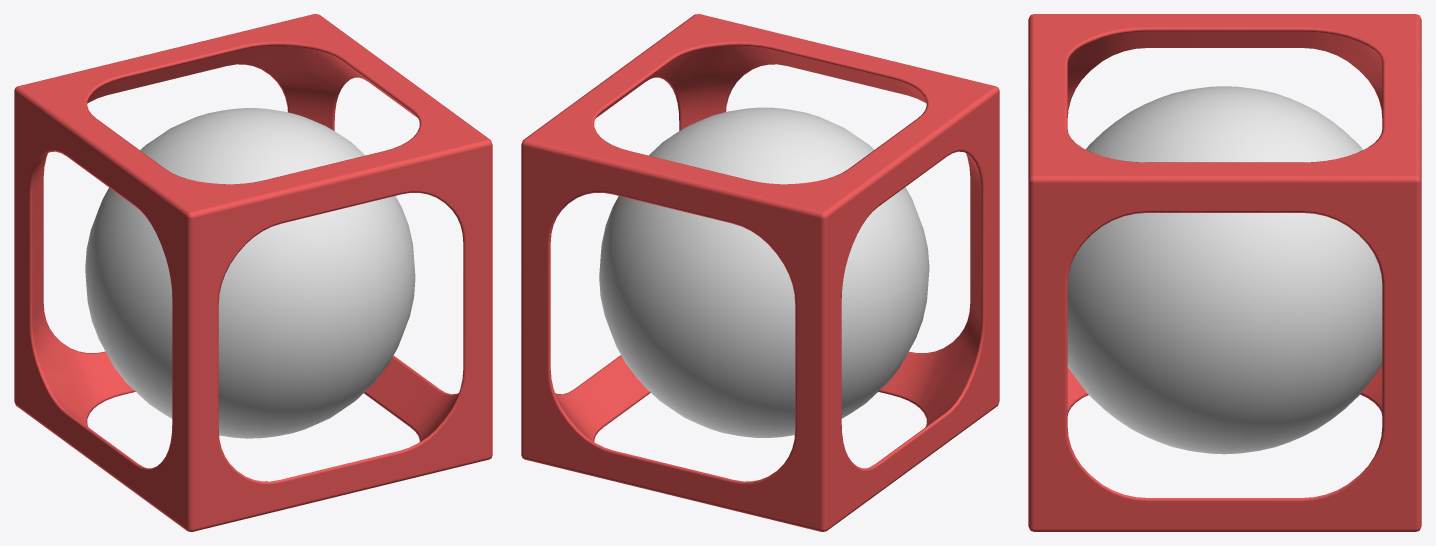
Rendered from Little Limos.fbx.
3 renders of one model, left to right at view 1: azimuth 30°, elevation 25°; view 2: azimuth 150°, elevation 25°; view 3: azimuth 270°, elevation 25°, orthographic. The views are drawn at different scales.
Visible parts, largest first — view 1: perfect cube, food protection; view 2: perfect cube, food protection; view 3: perfect cube, food protection.
Part boxes in pixels (box(x1,y1,x2,y2)): perfect cube: box(14, 14, 492, 531); food protection: box(85, 108, 415, 438); perfect cube: box(521, 14, 999, 531); food protection: box(599, 107, 929, 437); perfect cube: box(1028, 14, 1421, 531); food protection: box(1067, 86, 1382, 454).
Bounding box in the file's own units: 200 × 200 × 200.
